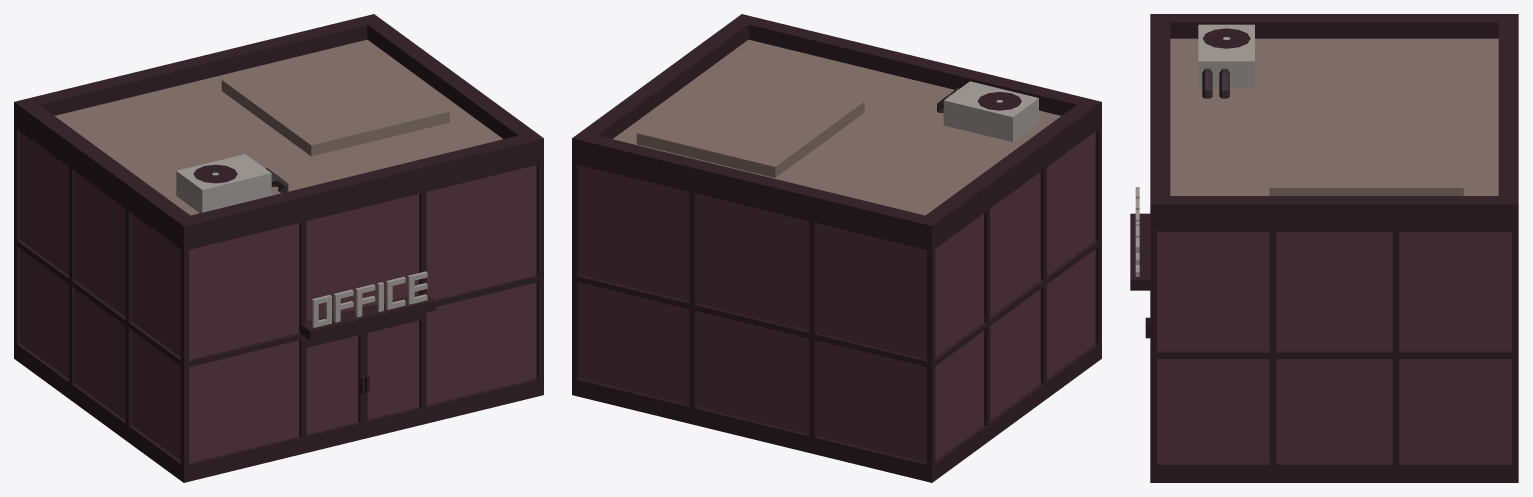
File: Building_29.fbx
3 views of the same model, side by side, from view 1: azimuth 30°, elevation 25°; view 2: azimuth 150°, elevation 25°; view 3: azimuth 270°, elevation 25° (orthographic). The views are drawn at different scales.
Visible parts, largest first — view 1: Building_29, Building_29LP; view 2: Building_29, Building_29LP; view 3: Building_29, Building_29LP.
Boxes of the visible parts, x1,y1,x2,y2 form: Building_29: (14,14,543,482); Building_29LP: (75,172,427,434); Building_29: (572,14,1101,482); Building_29LP: (696,172,1040,462); Building_29: (1130,14,1518,482); Building_29LP: (1135,187,1511,463).
Bounding box in the file's own units: 8.48 × 6 × 7.3.
